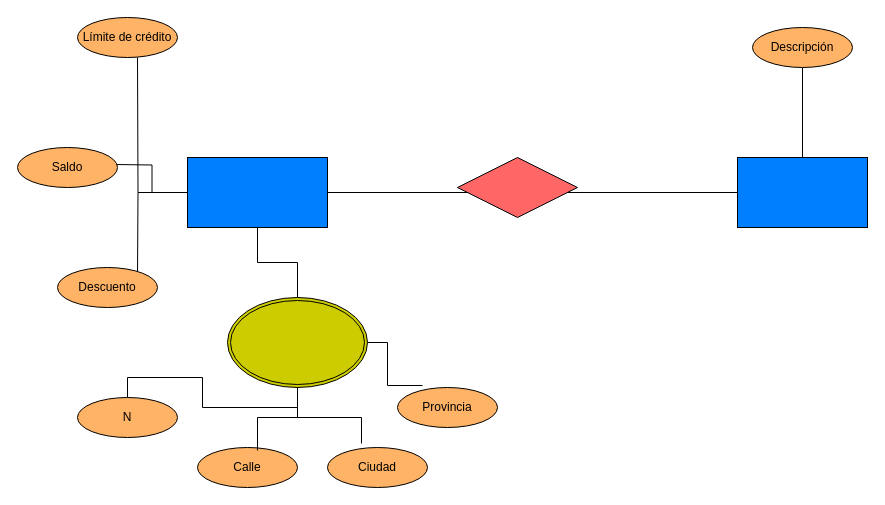
Some shapes in this 885 by 505 pixel diagram are drawn without their labels. Each missing label, with the box of its shape:
Artículo: (736, 156, 868, 228)
Cliente: (186, 156, 328, 228)
Direcciones de envio: (226, 296, 368, 388)
Pedidos: (456, 156, 578, 218)
